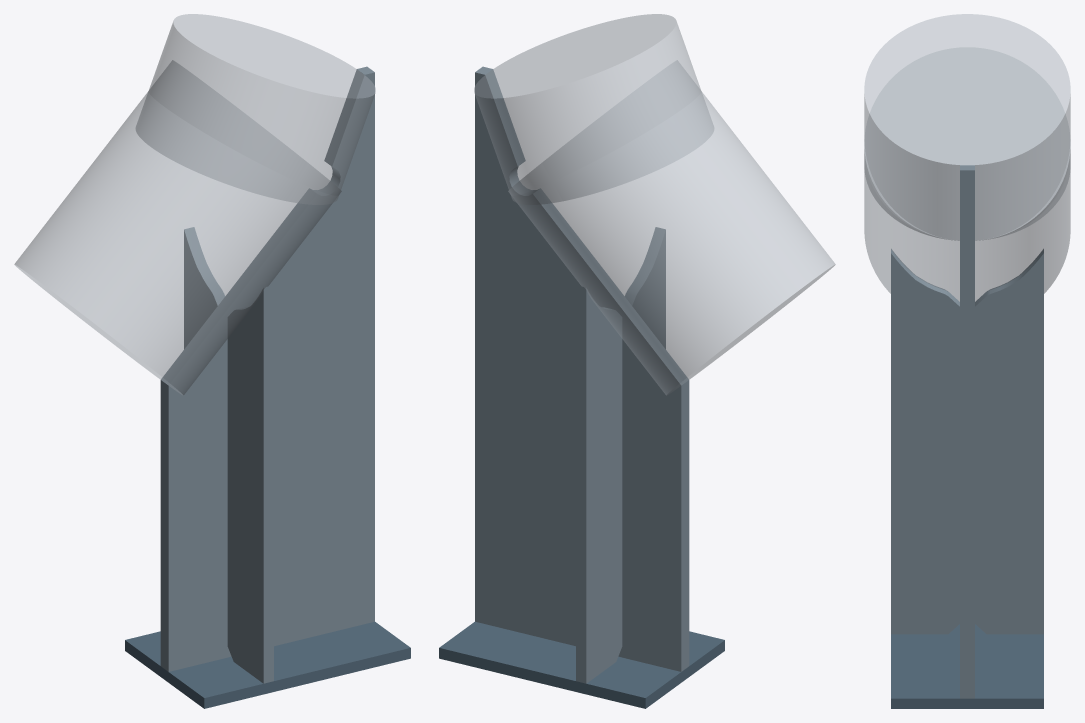
Rendered from TS-631.000-00-opora-dn108-R305.glb.
3 views of the same model, side by side, from view 1: azimuth 30°, elevation 25°; view 2: azimuth 150°, elevation 25°; view 3: azimuth 270°, elevation 25° (orthographic). The views are drawn at different scales.
Visible parts, largest first — view 1: kosynka_1, truba_1, truba_0, rebro_3, osnovanie_0, rebro_2; view 2: kosynka_1, truba_1, truba_0, rebro_2, osnovanie_0, rebro_3; view 3: truba_1, truba_0, rebro_2, rebro_3, osnovanie_0, kosynka_1.
Part boxes in pixels (left/top/right/bottom): kosynka_1: left=160, top=66, right=374, bottom=671; truba_1: left=14, top=60, right=341, bottom=395; truba_0: left=136, top=14, right=375, bottom=204; rebro_3: left=227, top=285, right=273, bottom=683; osnovanie_0: left=125, top=621, right=410, bottom=708; rebro_2: left=184, top=227, right=224, bottom=348; kosynka_1: left=475, top=66, right=689, bottom=671; truba_1: left=508, top=60, right=835, bottom=395; truba_0: left=474, top=14, right=713, bottom=204; rebro_2: left=576, top=285, right=622, bottom=683; osnovanie_0: left=439, top=621, right=724, bottom=708; rebro_3: left=625, top=227, right=665, bottom=348; truba_1: left=864, top=47, right=1070, bottom=301; truba_0: left=864, top=14, right=1070, bottom=240; rebro_2: left=975, top=249, right=1043, bottom=634; rebro_3: left=891, top=249, right=959, bottom=634; osnovanie_0: left=891, top=624, right=1043, bottom=708; kosynka_1: left=960, top=165, right=974, bottom=698.
Size of the model in its own units: 196 by 352 by 108.
